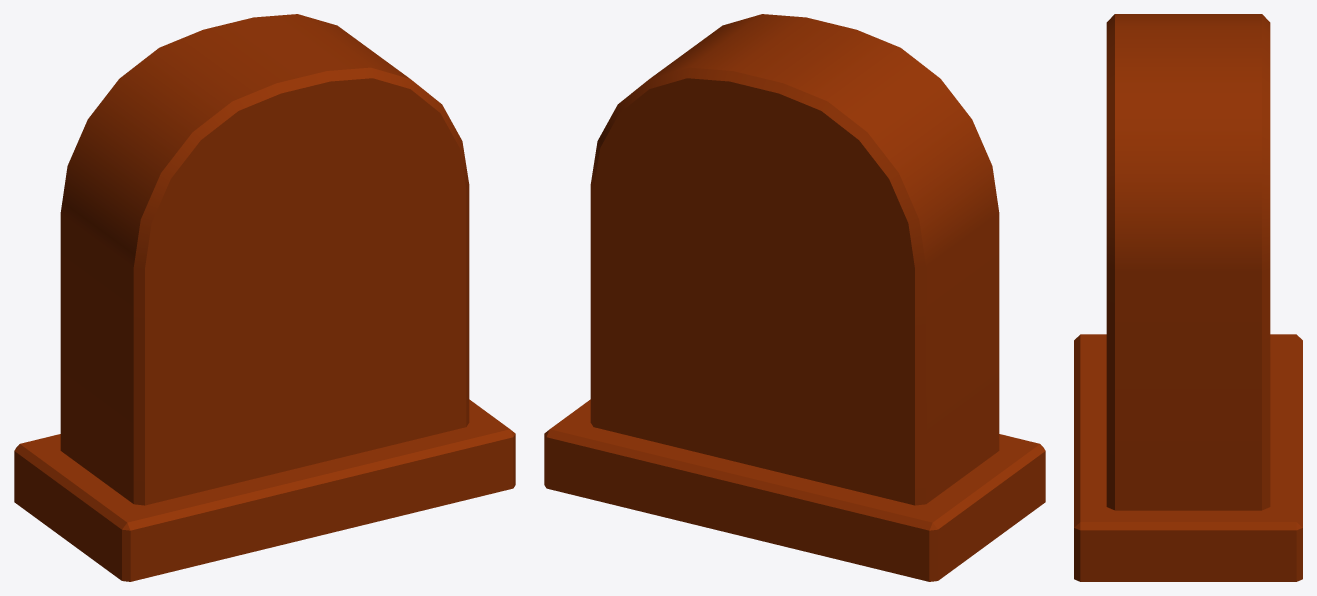
The model's file is Tomb_02.fbx.
3 renders of one model, left to right at view 1: azimuth 30°, elevation 25°; view 2: azimuth 150°, elevation 25°; view 3: azimuth 270°, elevation 25°, orthographic.
Visible parts, largest first — view 1: Tomb_02; view 2: Tomb_02; view 3: Tomb_02.
Part boxes in pixels (<box>): Tomb_02: <box>14,14,515,581</box>; Tomb_02: <box>544,14,1045,581</box>; Tomb_02: <box>1074,14,1302,581</box>.
Size of the model in its own units: 0.6025 by 0.648 by 0.3019.
